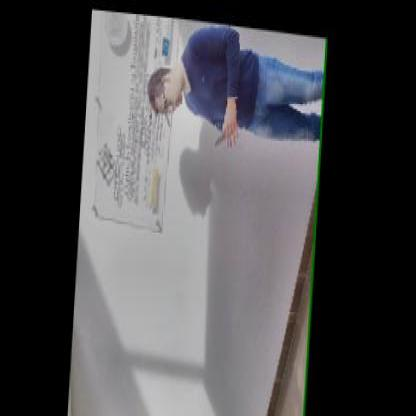knife: (213, 116, 234, 143)
